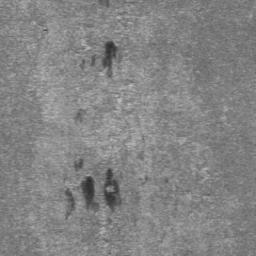Iron scale compression: (80, 176, 99, 212), (104, 170, 119, 210), (103, 42, 116, 76), (64, 189, 75, 219), (74, 111, 84, 122), (74, 160, 83, 172)
